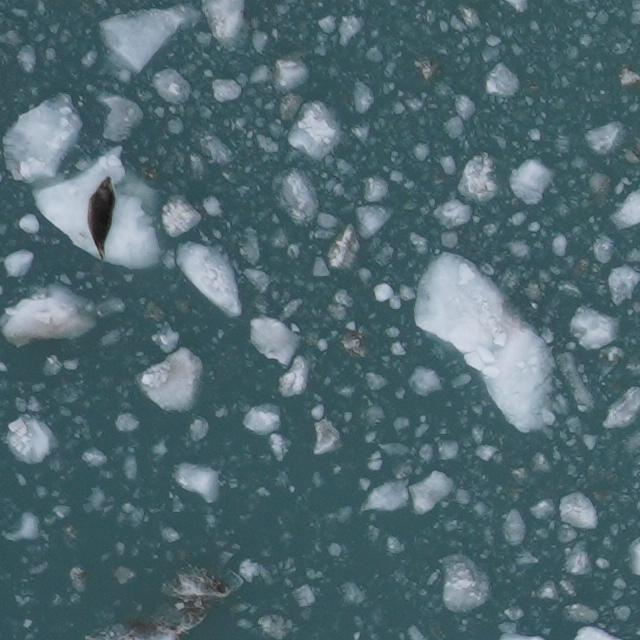seal: (84, 172, 120, 266)
